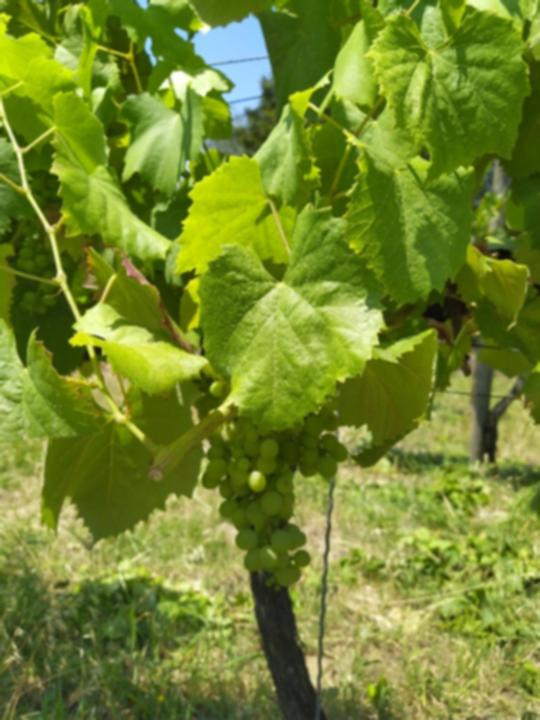grape: (200, 376, 353, 599)
